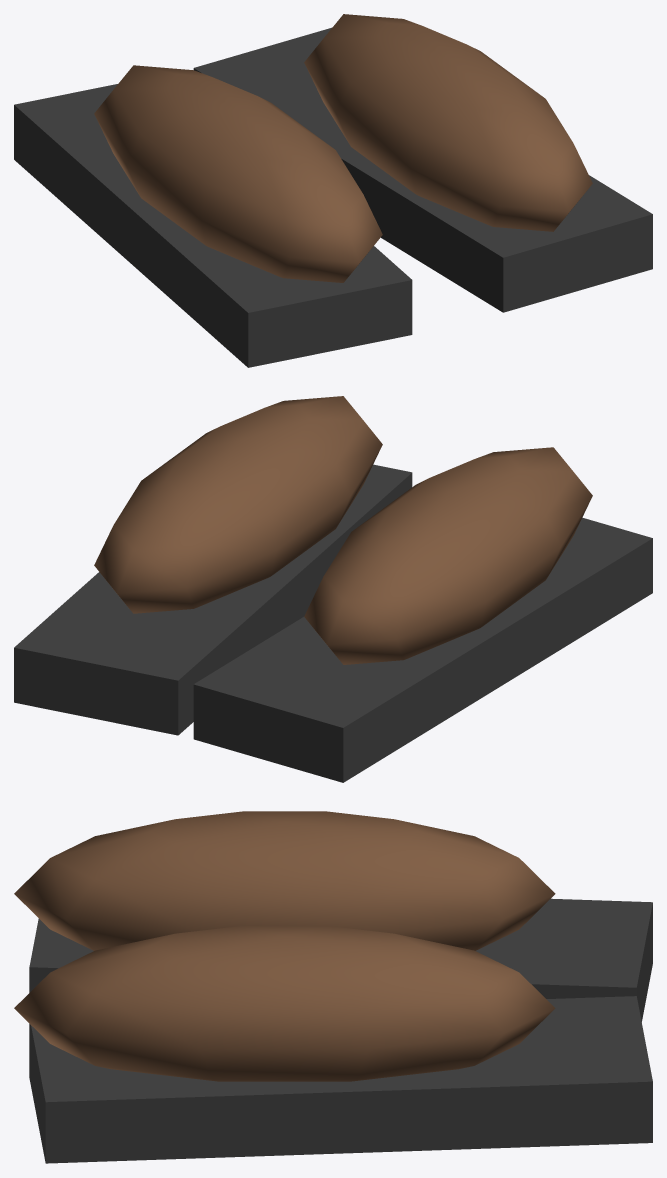
Rendered from Shoes_Pair.gltf.
3 renders of one model, top to bottom at view 1: azimuth 30°, elevation 25°; view 2: azimuth 150°, elevation 25°; view 3: azimuth 270°, elevation 25°, orthographic. The views are drawn at different scales.
Visible parts, largest first — view 1: A_Shoes_Pair; view 2: A_Shoes_Pair; view 3: A_Shoes_Pair.
Part boxes in pixels (x1,y1,x2,y2): A_Shoes_Pair: [14, 14, 652, 367]; A_Shoes_Pair: [14, 396, 652, 782]; A_Shoes_Pair: [14, 811, 652, 1163].
Size of the model in its own units: 0.2313 by 0.085 by 0.2832.
